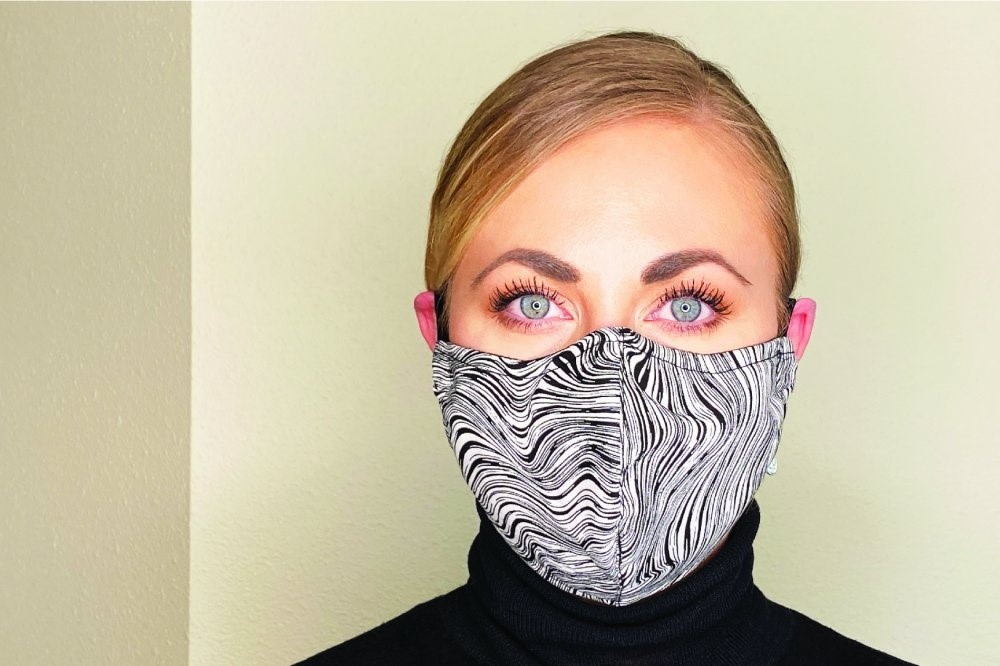face_with_mask: (412, 25, 815, 608)
